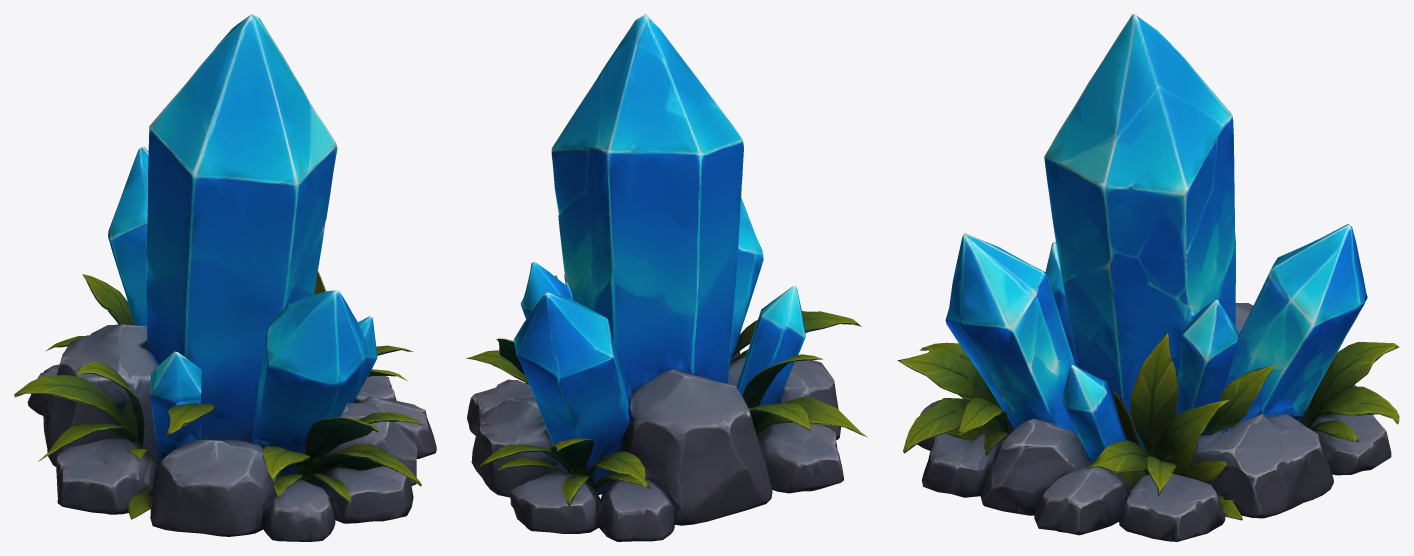
File: crystal_cluster.glb
3 renders of one model, left to right at view 1: azimuth 30°, elevation 25°; view 2: azimuth 150°, elevation 25°; view 3: azimuth 270°, elevation 25°, orthographic. The views are drawn at different scales.
Parts seen in each view (by area): view 1: tripo_node_a0ad5f3c-755a-4cad-937c-6489a5252141; view 2: tripo_node_a0ad5f3c-755a-4cad-937c-6489a5252141; view 3: tripo_node_a0ad5f3c-755a-4cad-937c-6489a5252141.
Boxes of the visible parts, box(x1,y1,x2,y2) form: tripo_node_a0ad5f3c-755a-4cad-937c-6489a5252141: box(14, 14, 436, 541); tripo_node_a0ad5f3c-755a-4cad-937c-6489a5252141: box(466, 14, 867, 541); tripo_node_a0ad5f3c-755a-4cad-937c-6489a5252141: box(897, 14, 1399, 541).
Bounding box in the file's own units: 0.9287 × 0.9853 × 1.
1 material, 1 textured.
